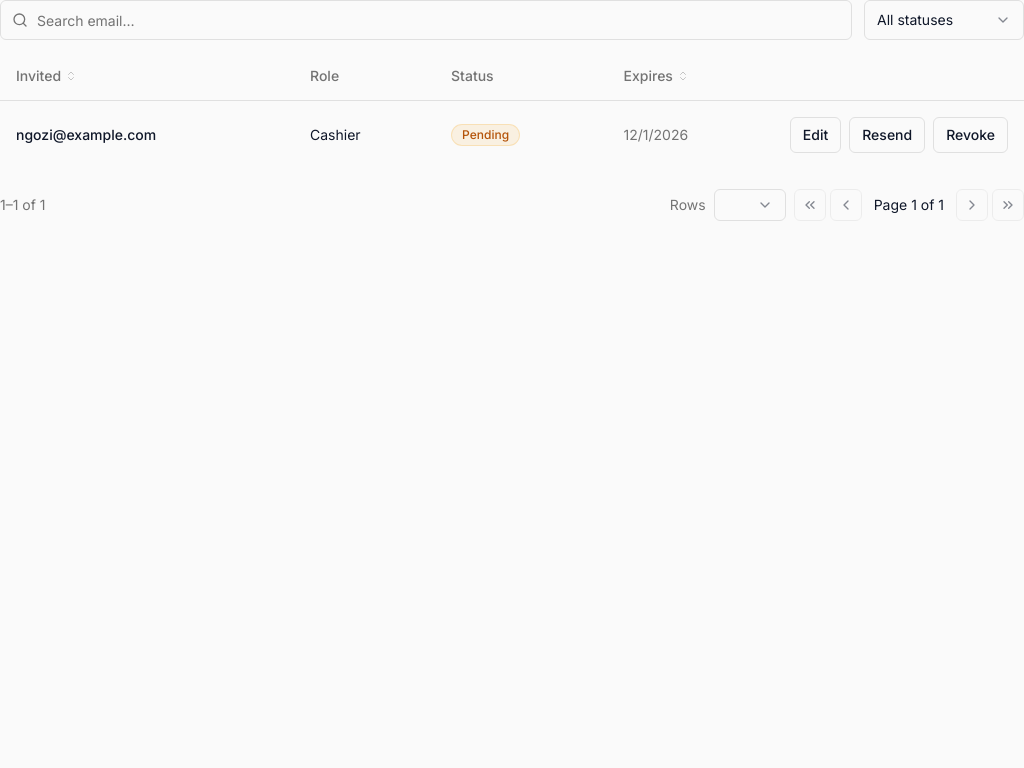
Test case: invitations › edit opens the form with what the invitation holds
Click the button "Edit". click: click(816, 134)
box: [790, 116, 841, 152]
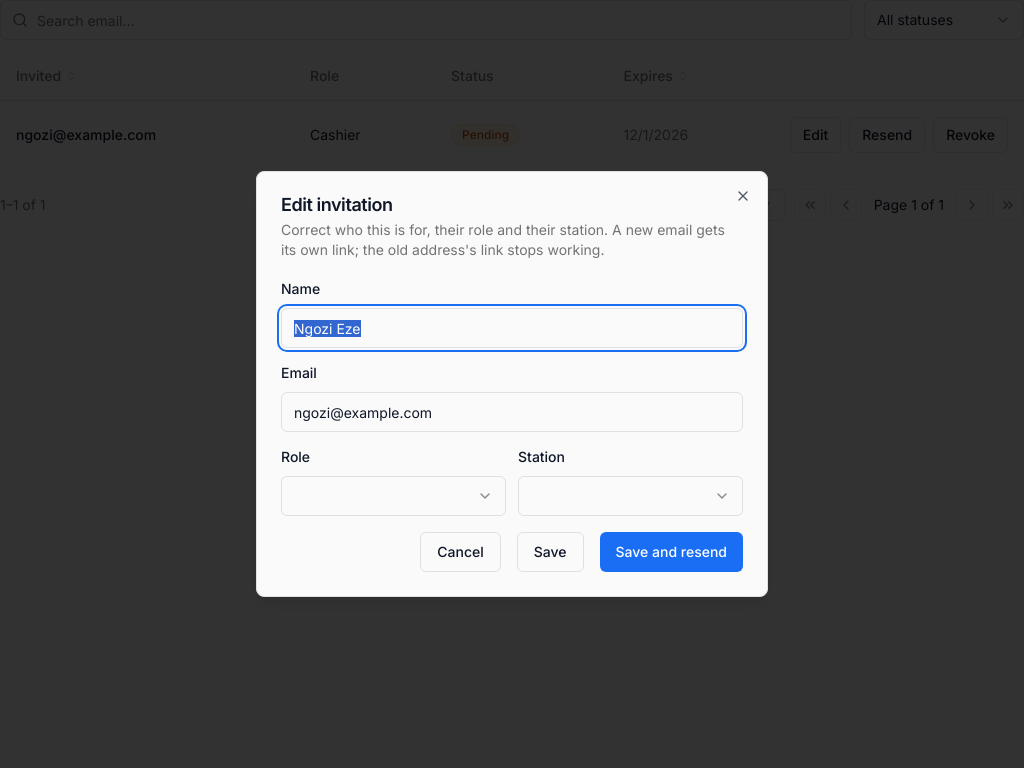
Result: the field labelled "Name" holds "Ngozi Eze" at [281, 308, 743, 348]
Result: the field labelled "Email" holds "ngozi@example.com" at [281, 392, 743, 432]
